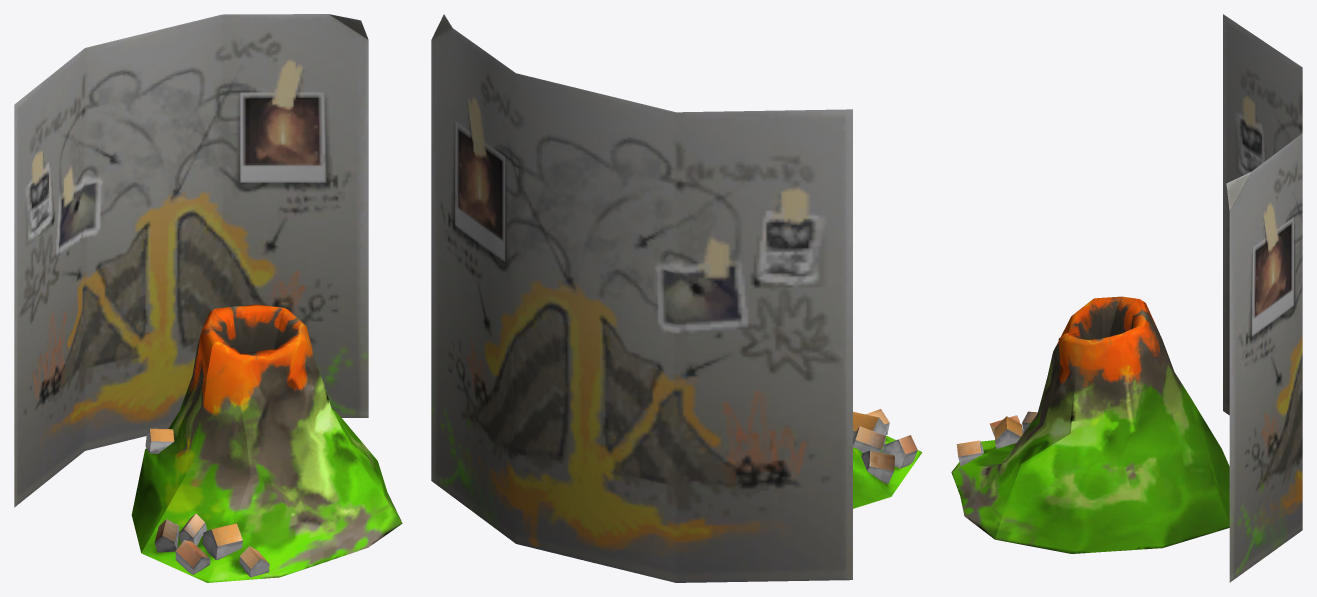
Rendered from proyectoCiencias.fbx.
3 views of the same model, side by side, from view 1: azimuth 30°, elevation 25°; view 2: azimuth 150°, elevation 25°; view 3: azimuth 270°, elevation 25° (orthographic). The views are drawn at different scales.
Parts seen in each view (by area): view 1: s4studio_mesh_1; view 2: s4studio_mesh_1; view 3: s4studio_mesh_1.
Part boxes in pixels (box(x1,y1,x2,y2)): s4studio_mesh_1: box(14, 14, 402, 582); s4studio_mesh_1: box(431, 14, 922, 582); s4studio_mesh_1: box(951, 14, 1302, 582).
Bounding box in the file's own units: 60.12 × 64.83 × 51.9.
Materials: 1 (1 with a texture image).
